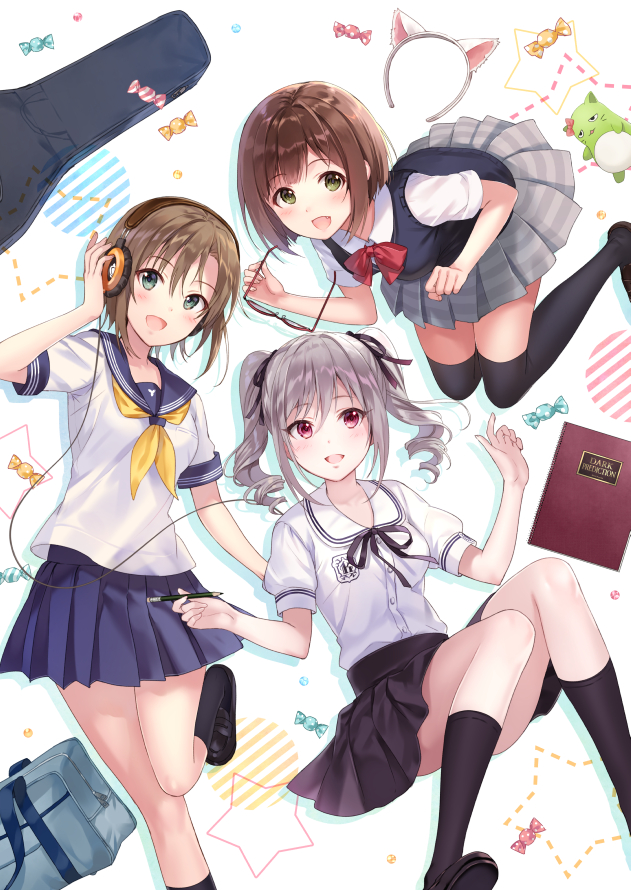纸片人正脸: (227, 75, 395, 250), (248, 326, 401, 491), (91, 196, 244, 357)
